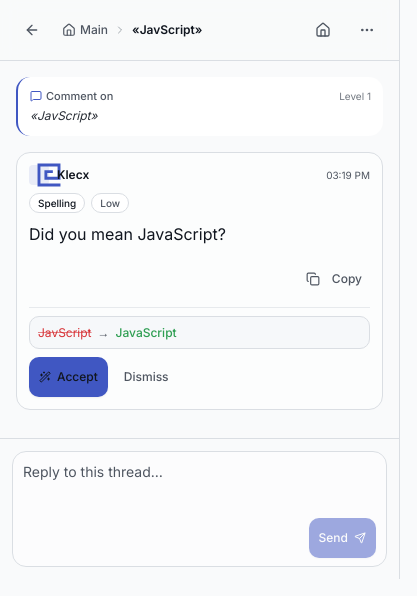
Step F3.3 UI — review and quick fixes › review comment in its column › shows Klecx as the author, the chips, the change, and accepts it
The image size is (417, 596).
Check: the text "Klecx" is shown, box [57,167,89,183]
Check: the text "Spelling" is shown, box [29,193,85,213]
Click the button with test id "apply-fix-btn".
click(68, 377)  # box [29,357,108,397]
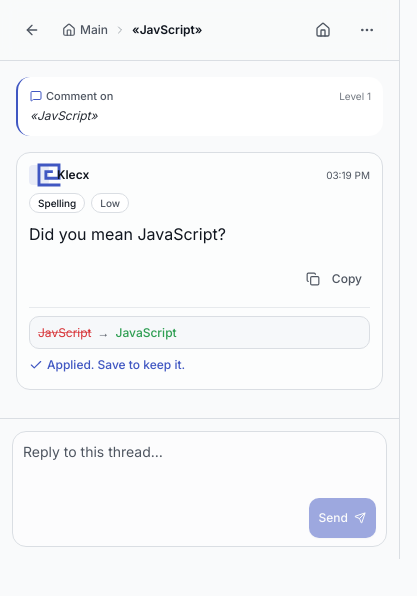
Check: the element with test id "fix-applied-badge" is shown, box [29,357,185,373]
